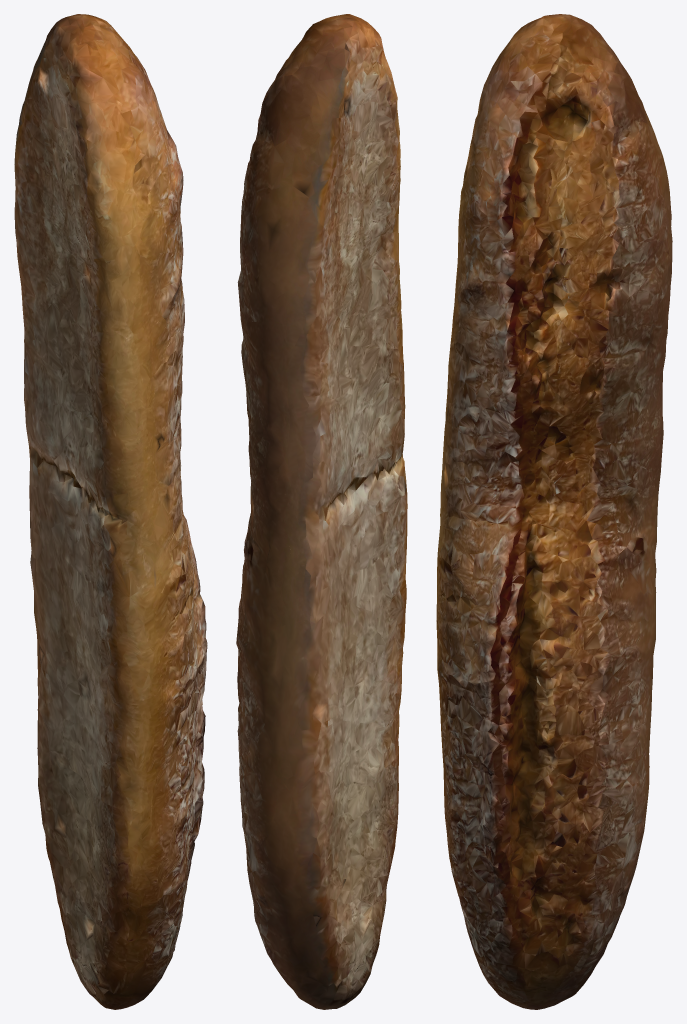
Rendered from baguete1.fbx.
3 renders of one model, left to right at view 1: azimuth 30°, elevation 25°; view 2: azimuth 150°, elevation 25°; view 3: azimuth 270°, elevation 25°, orthographic.
Parts seen in each view (by area): view 1: Mesh_0; view 2: Mesh_0; view 3: Mesh_0.
Part boxes in pixels (bbox=[...]): Mesh_0: bbox=[14, 14, 207, 1009]; Mesh_0: bbox=[236, 14, 407, 1009]; Mesh_0: bbox=[436, 14, 672, 1009].
Size of the model in its own units: 0.2848 by 2.27 by 0.4933.
